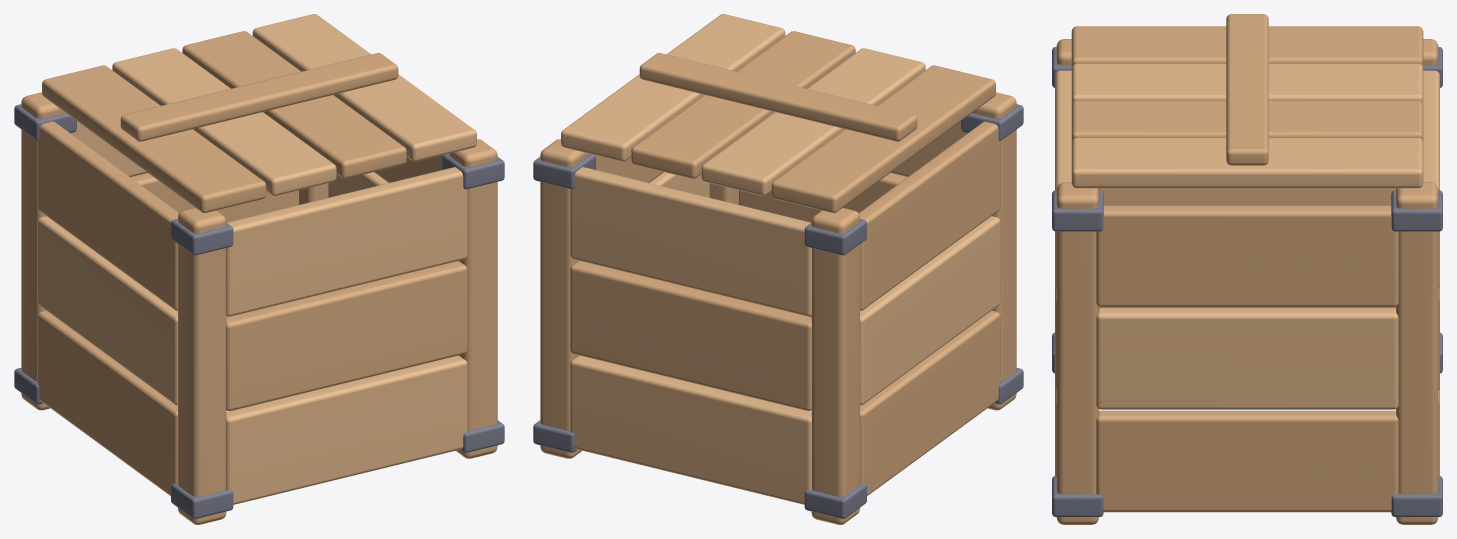
File: crate4.glb
3 views of the same model, side by side, from view 1: azimuth 30°, elevation 25°; view 2: azimuth 150°, elevation 25°; view 3: azimuth 270°, elevation 25° (orthographic). The views are drawn at different scales.
Parts seen in each view (by area): view 1: plank31, plank30, plank32, plank22, plank21, plank20, post-1-1, lid0, lid3, lid2, lid1, post1-1 (+12 smaller); view 2: plank11, plank10, plank12, plank22, plank21, plank20, post-11, lid0, lid3, lid2, lid1, post11 (+12 smaller); view 3: plank00, plank01, plank02, lid3, post1-1, post11, lid1, lid0, lid2, lidbar, plank21, plank12 (+5 smaller).
Part boxes in pixels (bbox=[...]): plank31: bbox=[226, 261, 467, 411]; plank30: bbox=[226, 355, 467, 504]; plank32: bbox=[226, 167, 467, 316]; plank22: bbox=[37, 121, 178, 310]; plank21: bbox=[37, 216, 177, 405]; plank20: bbox=[37, 310, 177, 495]; post-1-1: bbox=[178, 208, 226, 524]; lid0: bbox=[42, 65, 266, 212]; lid3: bbox=[252, 14, 476, 161]; lid2: bbox=[182, 31, 406, 178]; lid1: bbox=[112, 48, 336, 195]; post1-1: bbox=[449, 139, 497, 458]; plank11: bbox=[570, 261, 811, 411]; plank10: bbox=[570, 355, 811, 504]; plank12: bbox=[570, 167, 811, 316]; plank22: bbox=[859, 121, 1000, 310]; plank21: bbox=[860, 216, 1000, 405]; plank20: bbox=[860, 310, 1000, 495]; post-11: bbox=[811, 208, 859, 524]; lid0: bbox=[771, 65, 995, 212]; lid3: bbox=[561, 14, 785, 161]; lid2: bbox=[631, 31, 855, 178]; lid1: bbox=[701, 48, 925, 195]; post11: bbox=[540, 139, 588, 458]; plank00: bbox=[1096, 410, 1398, 512]; plank01: bbox=[1096, 308, 1398, 409]; plank02: bbox=[1096, 205, 1398, 306]; lid3: bbox=[1071, 137, 1423, 188]; post1-1: bbox=[1056, 182, 1098, 524]; post11: bbox=[1396, 182, 1438, 524]; lid1: bbox=[1071, 63, 1423, 104]; lid0: bbox=[1071, 26, 1423, 67]; lid2: bbox=[1071, 100, 1423, 141]; lidbar: bbox=[1226, 14, 1268, 165]; plank21: bbox=[1099, 188, 1395, 205]; plank12: bbox=[1423, 70, 1439, 287].
Size of the model in its own units: 0.645 by 0.665 by 0.645.
